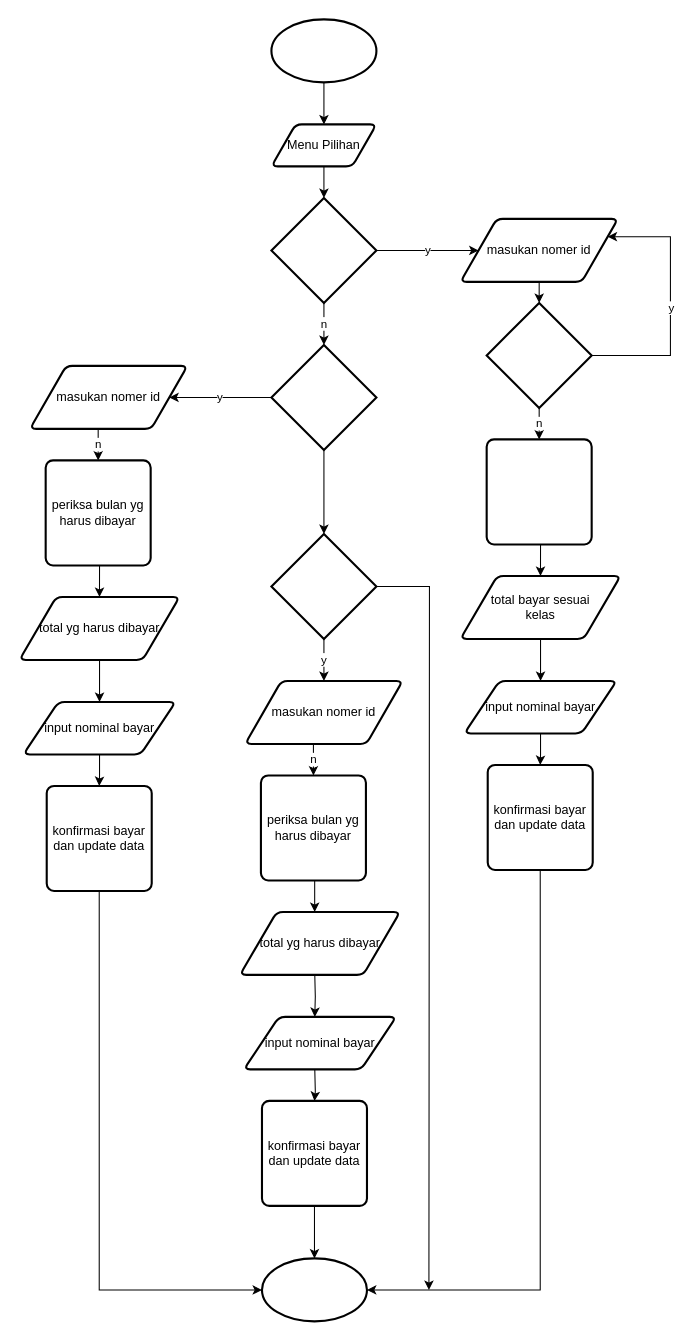
This 697x1340 diagram has some shape labels left out. Here are the shapes that lost their labels. From the top down, the box of each, then its label:
(270, 18, 377, 83): Start
(270, 196, 377, 303): peserta mandiri?
(485, 301, 592, 408): salah?
(270, 343, 377, 450): PBI?
(485, 438, 592, 545): periksa bulan yg harus dibayar & jenis kelas
(270, 532, 377, 639): PPU?
(260, 1257, 368, 1322): stop
